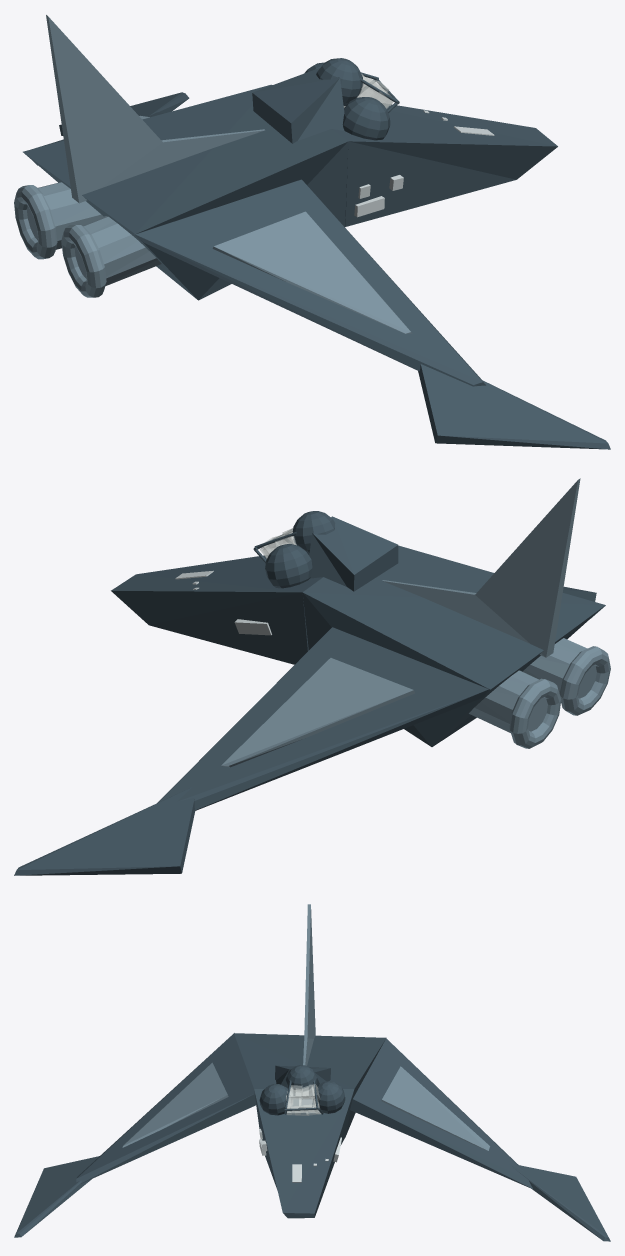
File: airplane.glb
3 renders of one model, top to bottom at view 1: azimuth 30°, elevation 25°; view 2: azimuth 150°, elevation 25°; view 3: azimuth 270°, elevation 25°, orthographic. The views are drawn at different scales.
Visible parts, largest first — view 1: group732058663, group1816518959, group522342895, group572303176, group338172849, group747926127, group338497969, group1681336299, group1625996798, group68179077, group1496592643, group756943680 (+2 smaller); view 2: group732058663, group603676362, group522342895, group572303176, group1773547229, group1781728129, group338497969, group68179077, group1625996798, group1496592643, group1681336299, group365477352 (+1 smaller); view 3: group522342895, group603676362, group1816518959, group732058663, group1781728129, group1773547229, group338172849, group747926127, group572303176, group365477352, group756943680, group1247102284 (+1 smaller).
Boxes of the visible parts, <box> form: group732058663: <box>23,85,348,300</box>; group1816518959: <box>134,179,485,386</box>; group522342895: <box>272,85,557,226</box>; group572303176: <box>46,15,264,203</box>; group338172849: <box>418,364,610,449</box>; group747926127: <box>212,211,412,333</box>; group338497969: <box>252,68,344,143</box>; group1681336299: <box>74,216,161,285</box>; group1625996798: <box>61,224,106,297</box>; group68179077: <box>14,185,57,259</box>; group1496592643: <box>27,182,103,249</box>; group756943680: <box>342,97,390,140</box>; group732058663: <box>302,545,605,746</box>; group603676362: <box>157,627,489,810</box>; group522342895: <box>111,555,322,664</box>; group572303176: <box>382,478,580,657</box>; group1773547229: <box>14,787,195,875</box>; group1781728129: <box>221,658,414,767</box>; group338497969: <box>309,516,398,591</box>; group68179077: <box>509,678,561,748</box>; group1625996798: <box>559,646,610,715</box>; group1496592643: <box>469,670,547,732</box>; group1681336299: <box>522,638,596,702</box>; group365477352: <box>265,544,312,588</box>; group522342895: <box>254,1089,354,1218</box>; group603676362: <box>350,1038,532,1189</box>; group1816518959: <box>76,1033,255,1183</box>; group732058663: <box>234,1033,386,1145</box>; group1781728129: <box>381,1066,489,1150</box>; group1773547229: <box>510,1165,610,1241</box>; group338172849: <box>14,1156,99,1237</box>; group747926127: <box>122,1062,228,1147</box>; group572303176: <box>303,904,315,1065</box>; group365477352: <box>312,1081,345,1113</box>; group756943680: <box>259,1084,288,1115</box>; group1247102284: <box>285,1065,317,1094</box>.
Size of the model in its own units: 2.32 by 1.57 by 3.74.
